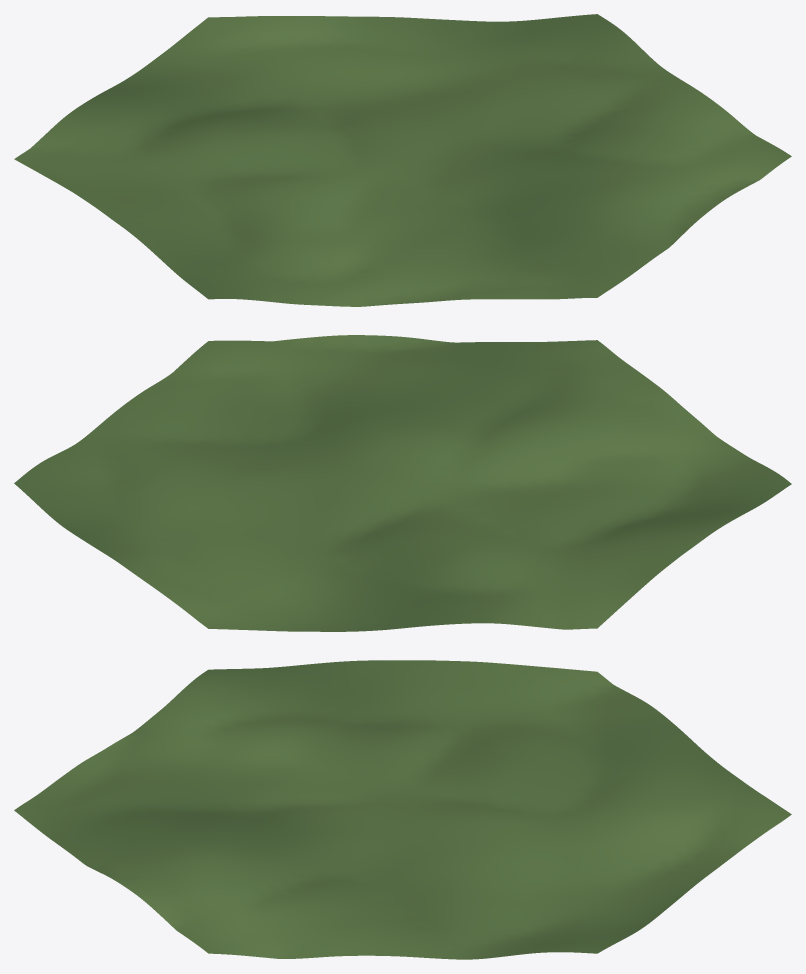
The picture shows the model from 3 angles, top to bottom: view 1: azimuth 30°, elevation 25°; view 2: azimuth 150°, elevation 25°; view 3: azimuth 270°, elevation 25°; orthographic projection.
Parts seen in each view (by area): view 1: JS_-1_12; view 2: JS_-1_12; view 3: JS_-1_12.
Part boxes in pixels (x1,y1,x2,y2): JS_-1_12: (14, 14, 791, 306); JS_-1_12: (14, 335, 791, 631); JS_-1_12: (14, 660, 791, 959).
Bounding box in the file's own units: 4330 × 147 × 5000.
